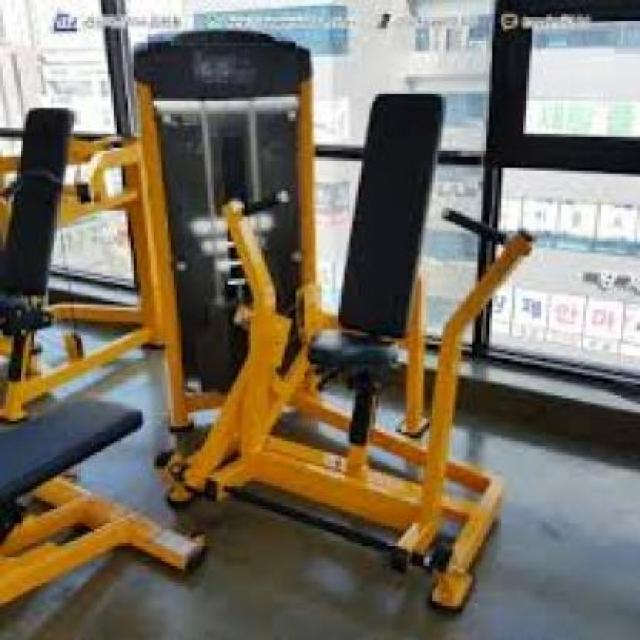Chest Press machine: (3, 23, 537, 619)
